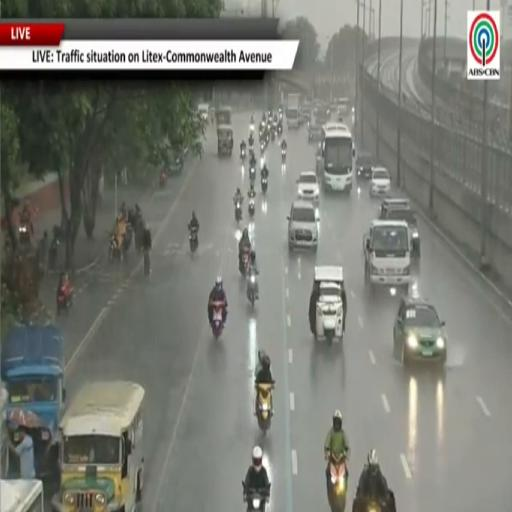bus: (319, 123, 355, 193), (0, 479, 43, 511), (337, 98, 349, 116)
car: (394, 296, 447, 365), (378, 199, 420, 258), (288, 200, 319, 251), (297, 171, 320, 202), (369, 167, 390, 197), (356, 151, 374, 179), (308, 117, 321, 141), (198, 104, 209, 122)
jeepney: (52, 381, 145, 511), (314, 266, 344, 343), (0, 383, 9, 478), (218, 124, 233, 155), (216, 106, 232, 126)
motorcycle: (328, 454, 347, 511), (353, 490, 396, 511), (256, 383, 273, 434), (242, 483, 270, 511), (210, 301, 226, 339), (57, 284, 73, 313), (108, 234, 123, 261), (247, 272, 258, 307), (48, 236, 59, 269), (240, 247, 250, 276), (18, 223, 30, 245), (189, 227, 198, 254), (144, 251, 150, 279), (235, 201, 242, 222), (159, 171, 167, 187), (249, 166, 256, 183), (249, 199, 255, 218), (261, 178, 267, 194), (260, 141, 265, 154), (277, 123, 282, 136), (271, 125, 275, 141), (282, 149, 286, 164), (266, 130, 270, 145), (241, 148, 246, 159), (249, 140, 253, 153), (249, 123, 254, 133), (279, 110, 282, 122)
truck: (0, 324, 65, 479), (363, 220, 411, 294), (286, 93, 300, 127)
